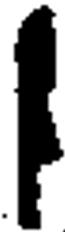Reed: (9, 8, 64, 230)
